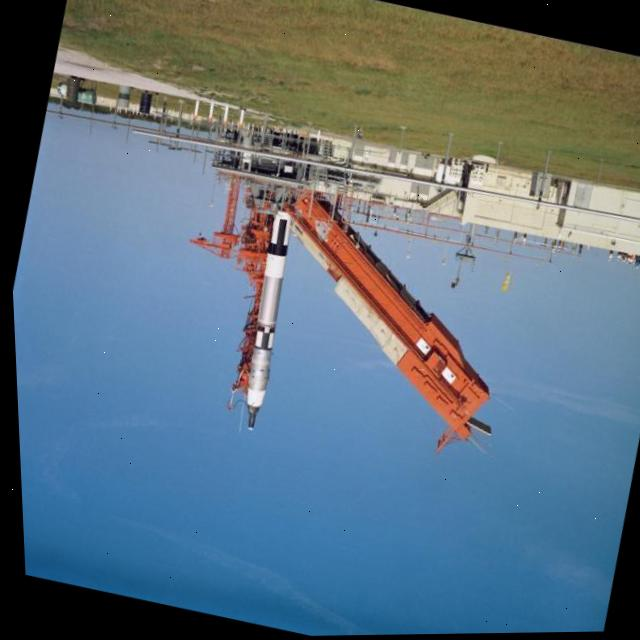missile: (220, 201, 305, 433)
